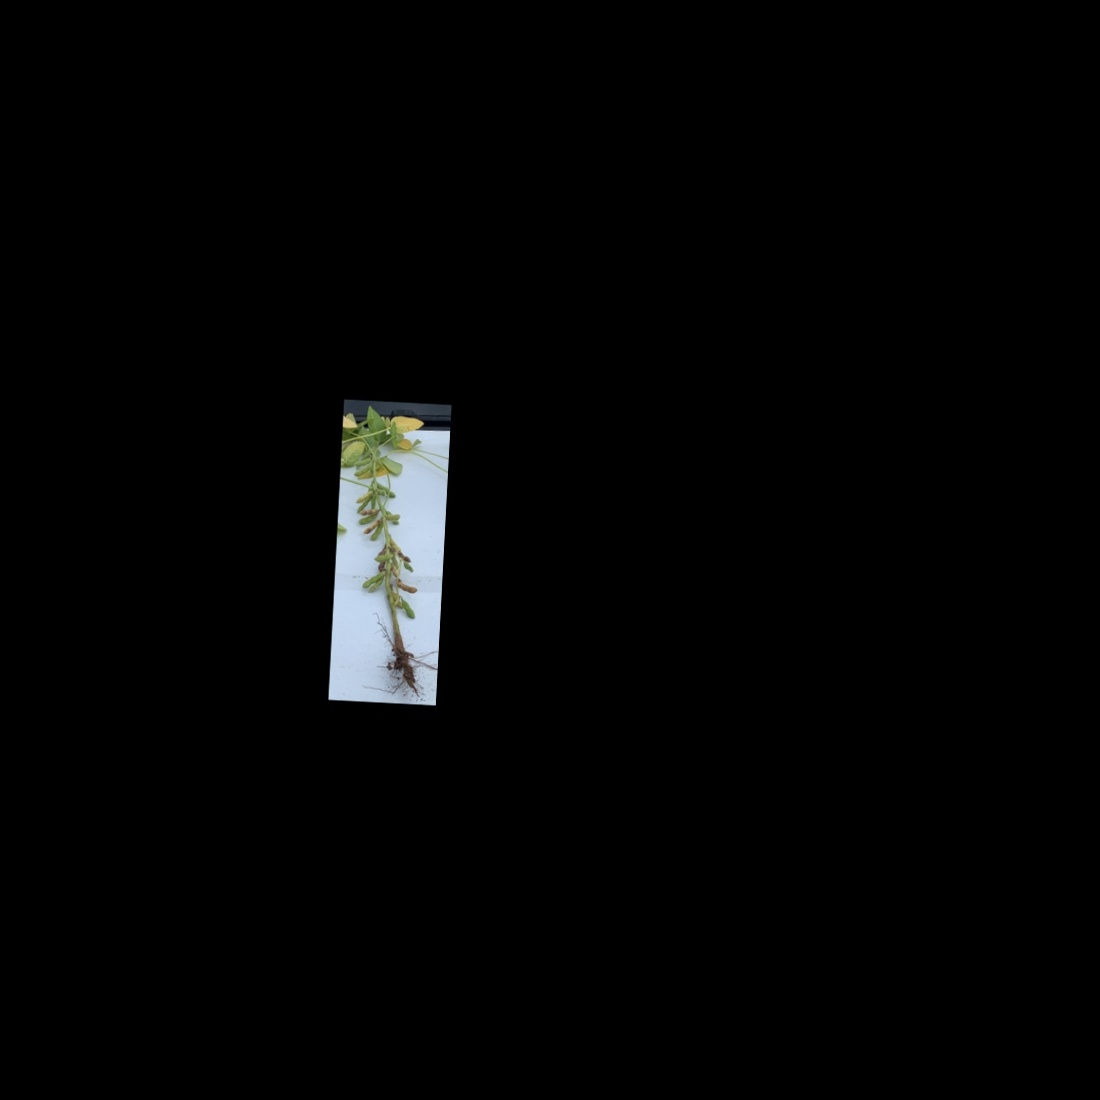pod: (359, 569, 385, 590), (398, 595, 417, 622), (367, 519, 385, 544), (362, 516, 384, 536), (396, 579, 420, 595), (351, 461, 373, 478), (355, 487, 374, 505), (356, 512, 379, 526), (382, 510, 404, 523), (376, 482, 390, 492)
soy: (328, 402, 430, 696)
